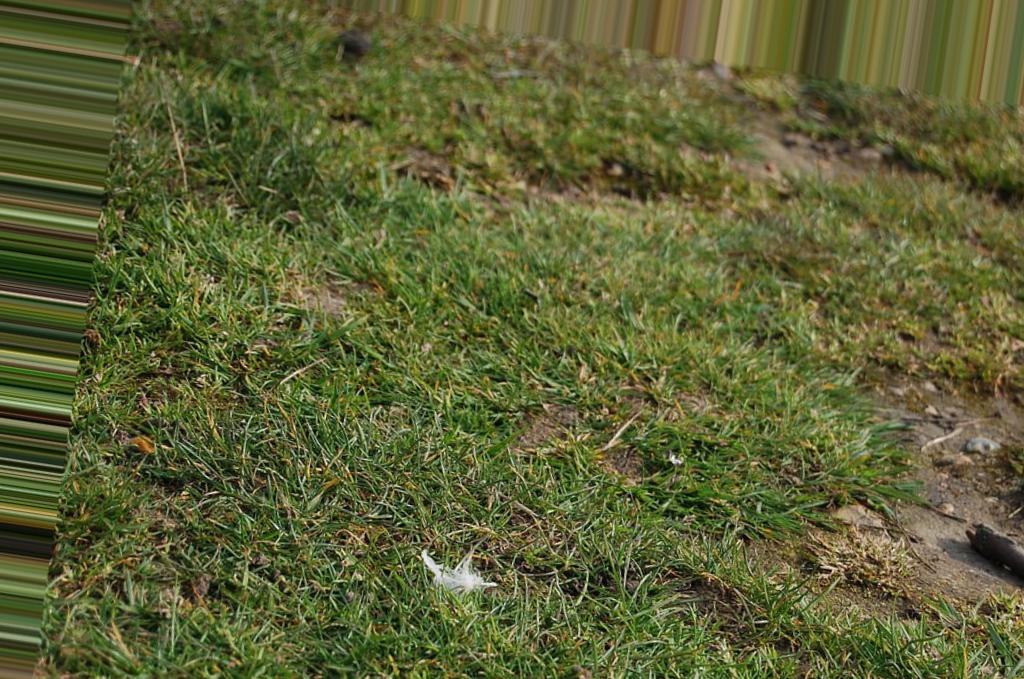patch: (909, 415, 1009, 579), (750, 113, 830, 182)
